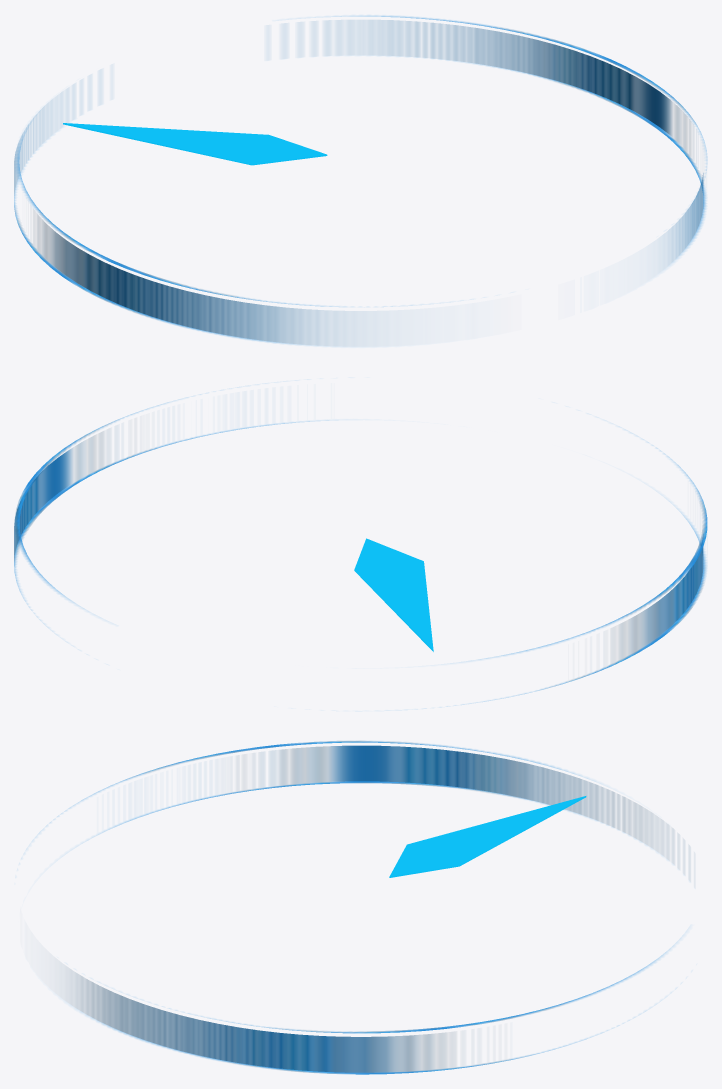
The model's file is dipan2.gltf.
The picture shows the model from 3 angles, top to bottom: view 1: azimuth 30°, elevation 25°; view 2: azimuth 150°, elevation 25°; view 3: azimuth 270°, elevation 25°; orthographic projection.
Visible parts, largest first — view 1: 圆盘_2, 指针; view 2: 圆盘_2, 指针; view 3: 圆盘_2, 指针.
Part boxes in pixels (bbox=[...]): 圆盘_2: bbox=[14, 15, 707, 345]; 指针: bbox=[63, 123, 327, 165]; 圆盘_2: bbox=[14, 399, 707, 704]; 指针: bbox=[354, 538, 433, 651]; 圆盘_2: bbox=[50, 741, 670, 1074]; 指针: bbox=[389, 796, 586, 877].
Size of what is drawn, in the model's own units: 85.79 by 5.69 by 85.79.
Materials: 2 (1 with a texture image).
